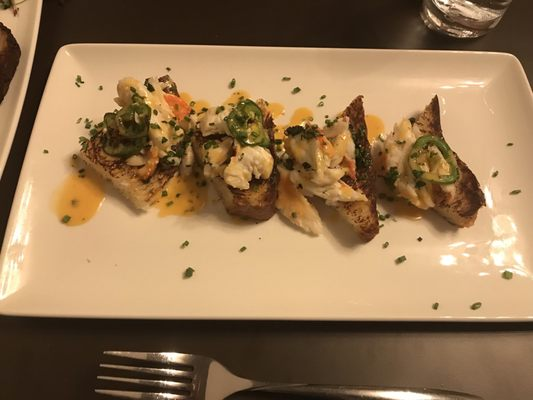burger: (89, 350, 519, 400)
pizza: (419, 0, 515, 40)
sandwich: (78, 350, 519, 400)
